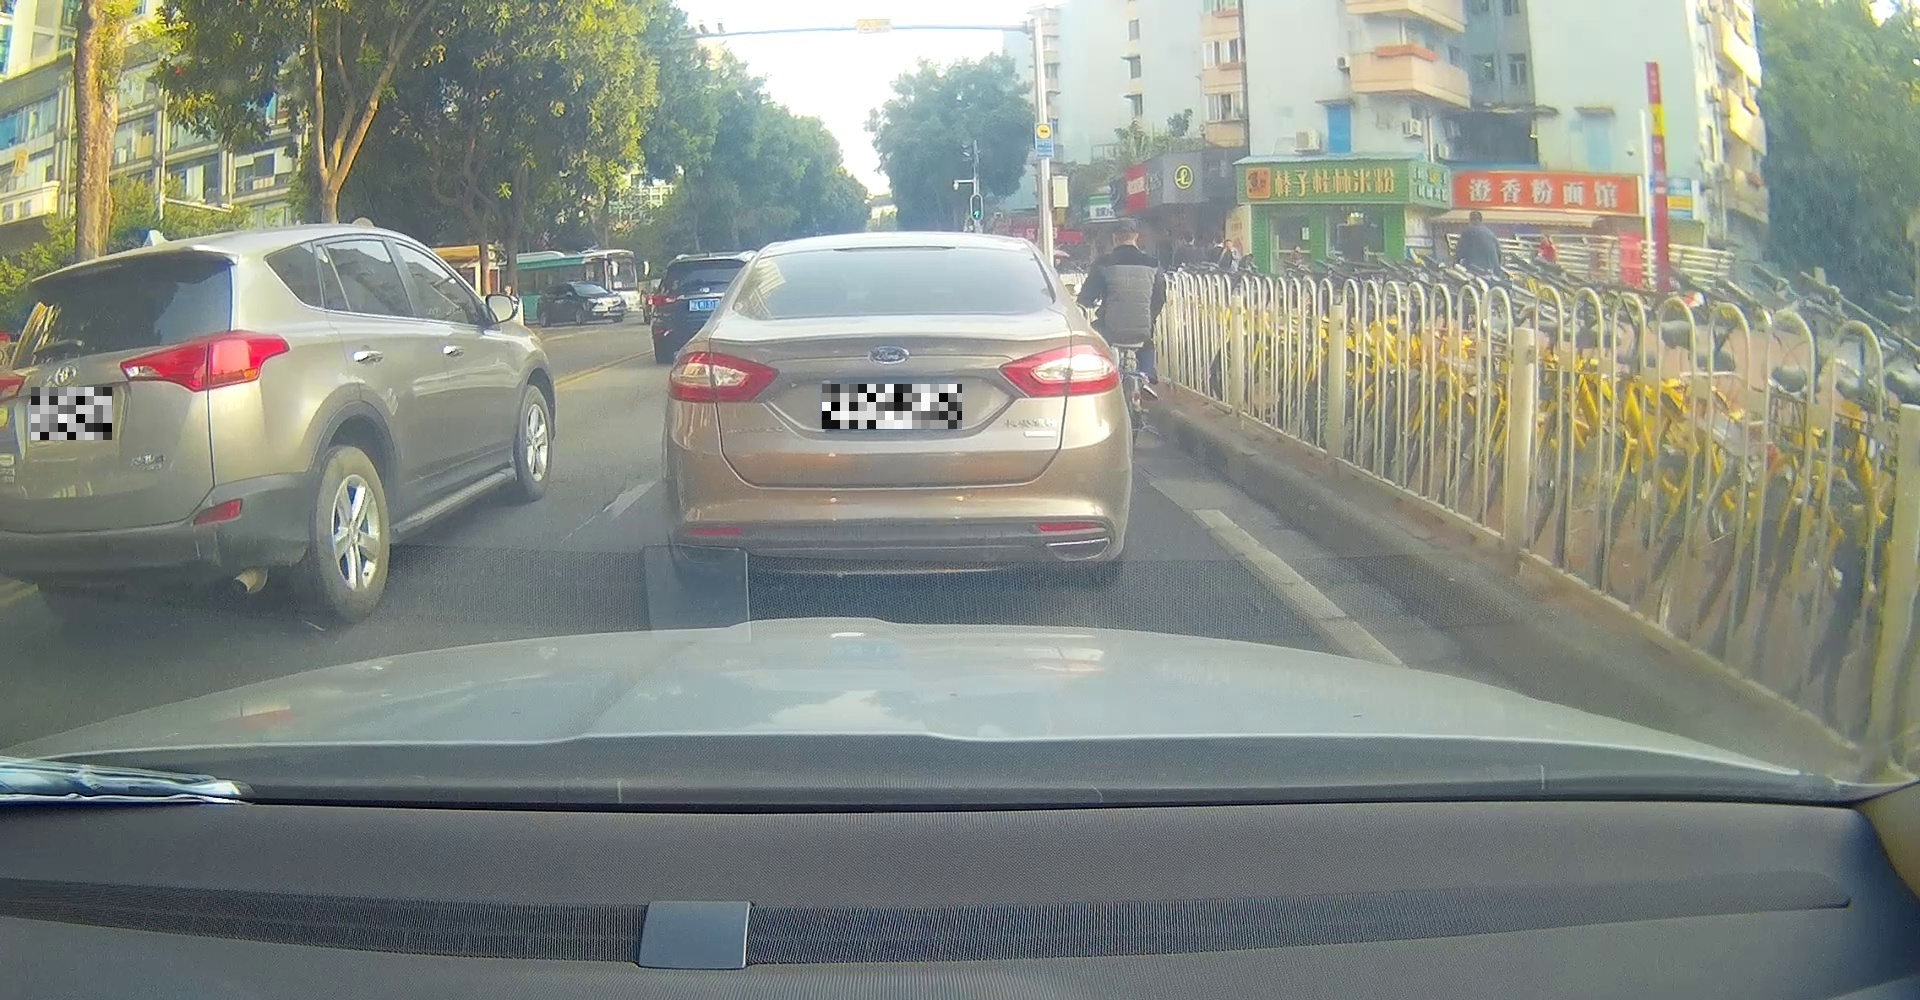L_light: (665, 352, 781, 404), (0, 362, 29, 404)
R_light: (118, 327, 291, 393), (996, 341, 1123, 400)
T_light: (836, 247, 954, 253), (69, 272, 127, 280)
day-no: (662, 230, 1134, 588), (0, 240, 300, 622)
plate_1: (30, 387, 112, 440)
plate_2: (822, 385, 963, 429)
